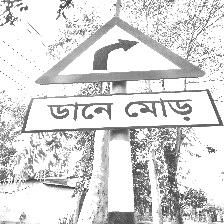Right-turn: (28, 2, 218, 133)
